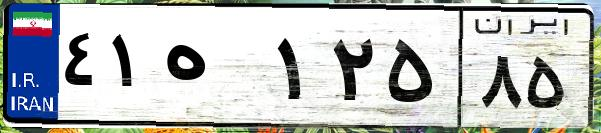1: (270, 28, 330, 110), (110, 28, 158, 98)
2: (330, 28, 385, 110)
4: (57, 26, 110, 100)
5: (385, 28, 445, 110), (525, 38, 570, 115)
8: (475, 38, 525, 113)
ه: (158, 20, 270, 120)
